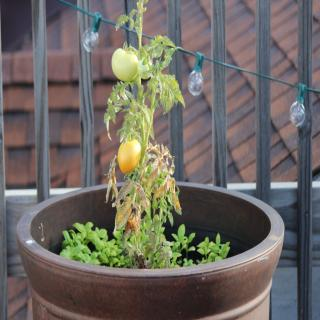tomato: (111, 42, 138, 82), (114, 138, 142, 174), (137, 58, 151, 83)
